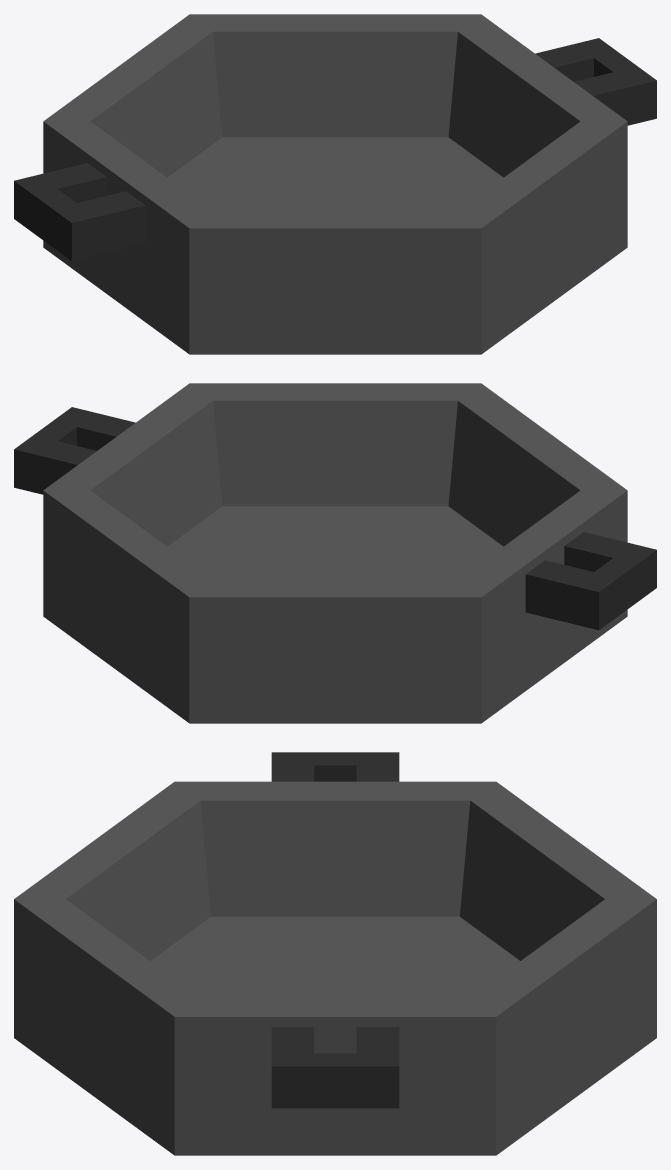
File: Pan2.fbx
The picture shows the model from 3 angles, top to bottom: view 1: azimuth 30°, elevation 25°; view 2: azimuth 150°, elevation 25°; view 3: azimuth 270°, elevation 25°; orthographic projection. The views are drawn at different scales.
Visible parts, largest first — view 1: Pan2; view 2: Pan2; view 3: Pan2.
Boxes of the visible parts, left/top/right/bottom form: Pan2: left=14, top=14, right=656, bottom=354; Pan2: left=14, top=383, right=656, bottom=723; Pan2: left=14, top=752, right=656, bottom=1155.
Size of the model in its own units: 0.7629 by 0.1572 by 0.6599.
